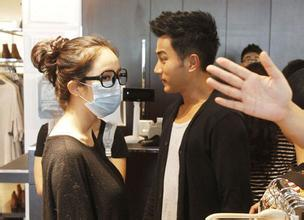NONE: (154, 49, 195, 96)
OK: (82, 66, 126, 118)
